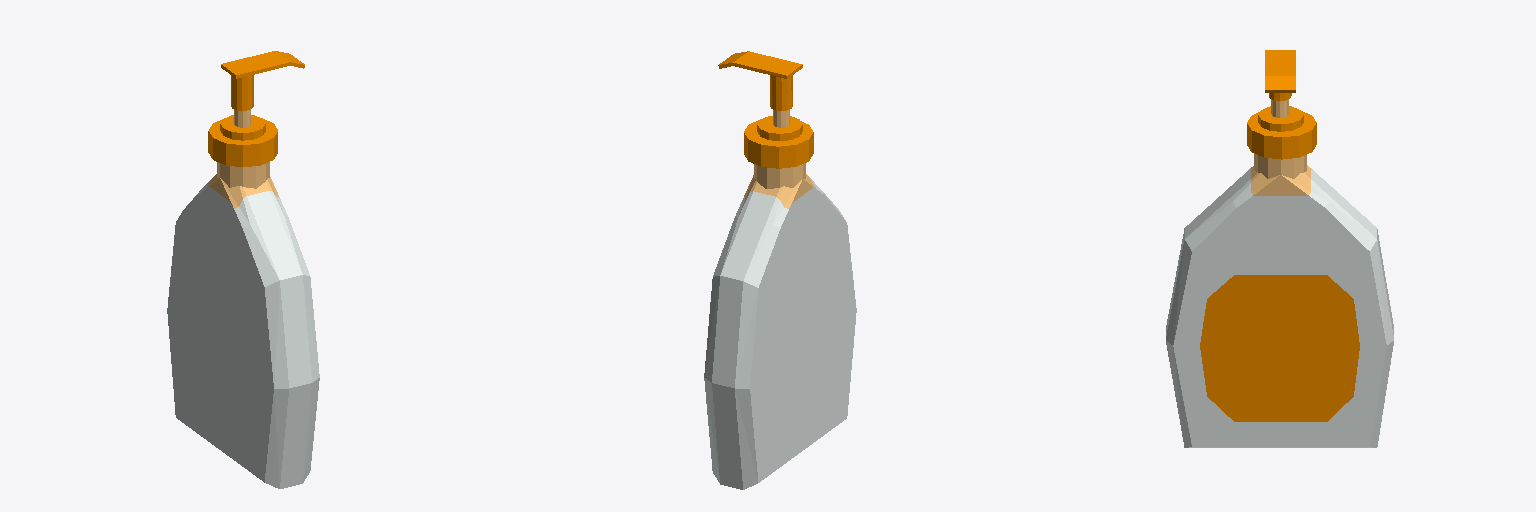
Rendered from CremaDeManosAmarilla.obj.
The picture shows the model from 3 angles: view 1: azimuth 30°, elevation 25°; view 2: azimuth 150°, elevation 25°; view 3: azimuth 270°, elevation 25°; orthographic projection.
Parts seen in each view (by area): view 1: group[number redacted]; view 2: group[number redacted]; view 3: group[number redacted].
Boxes of the visible parts, x1,y1,x2,y2 form: group[number redacted]: [167, 51, 319, 488]; group[number redacted]: [704, 51, 856, 489]; group[number redacted]: [1166, 50, 1393, 447].
Bounding box in the file's own units: 0.6402 × 2.81 × 1.51.